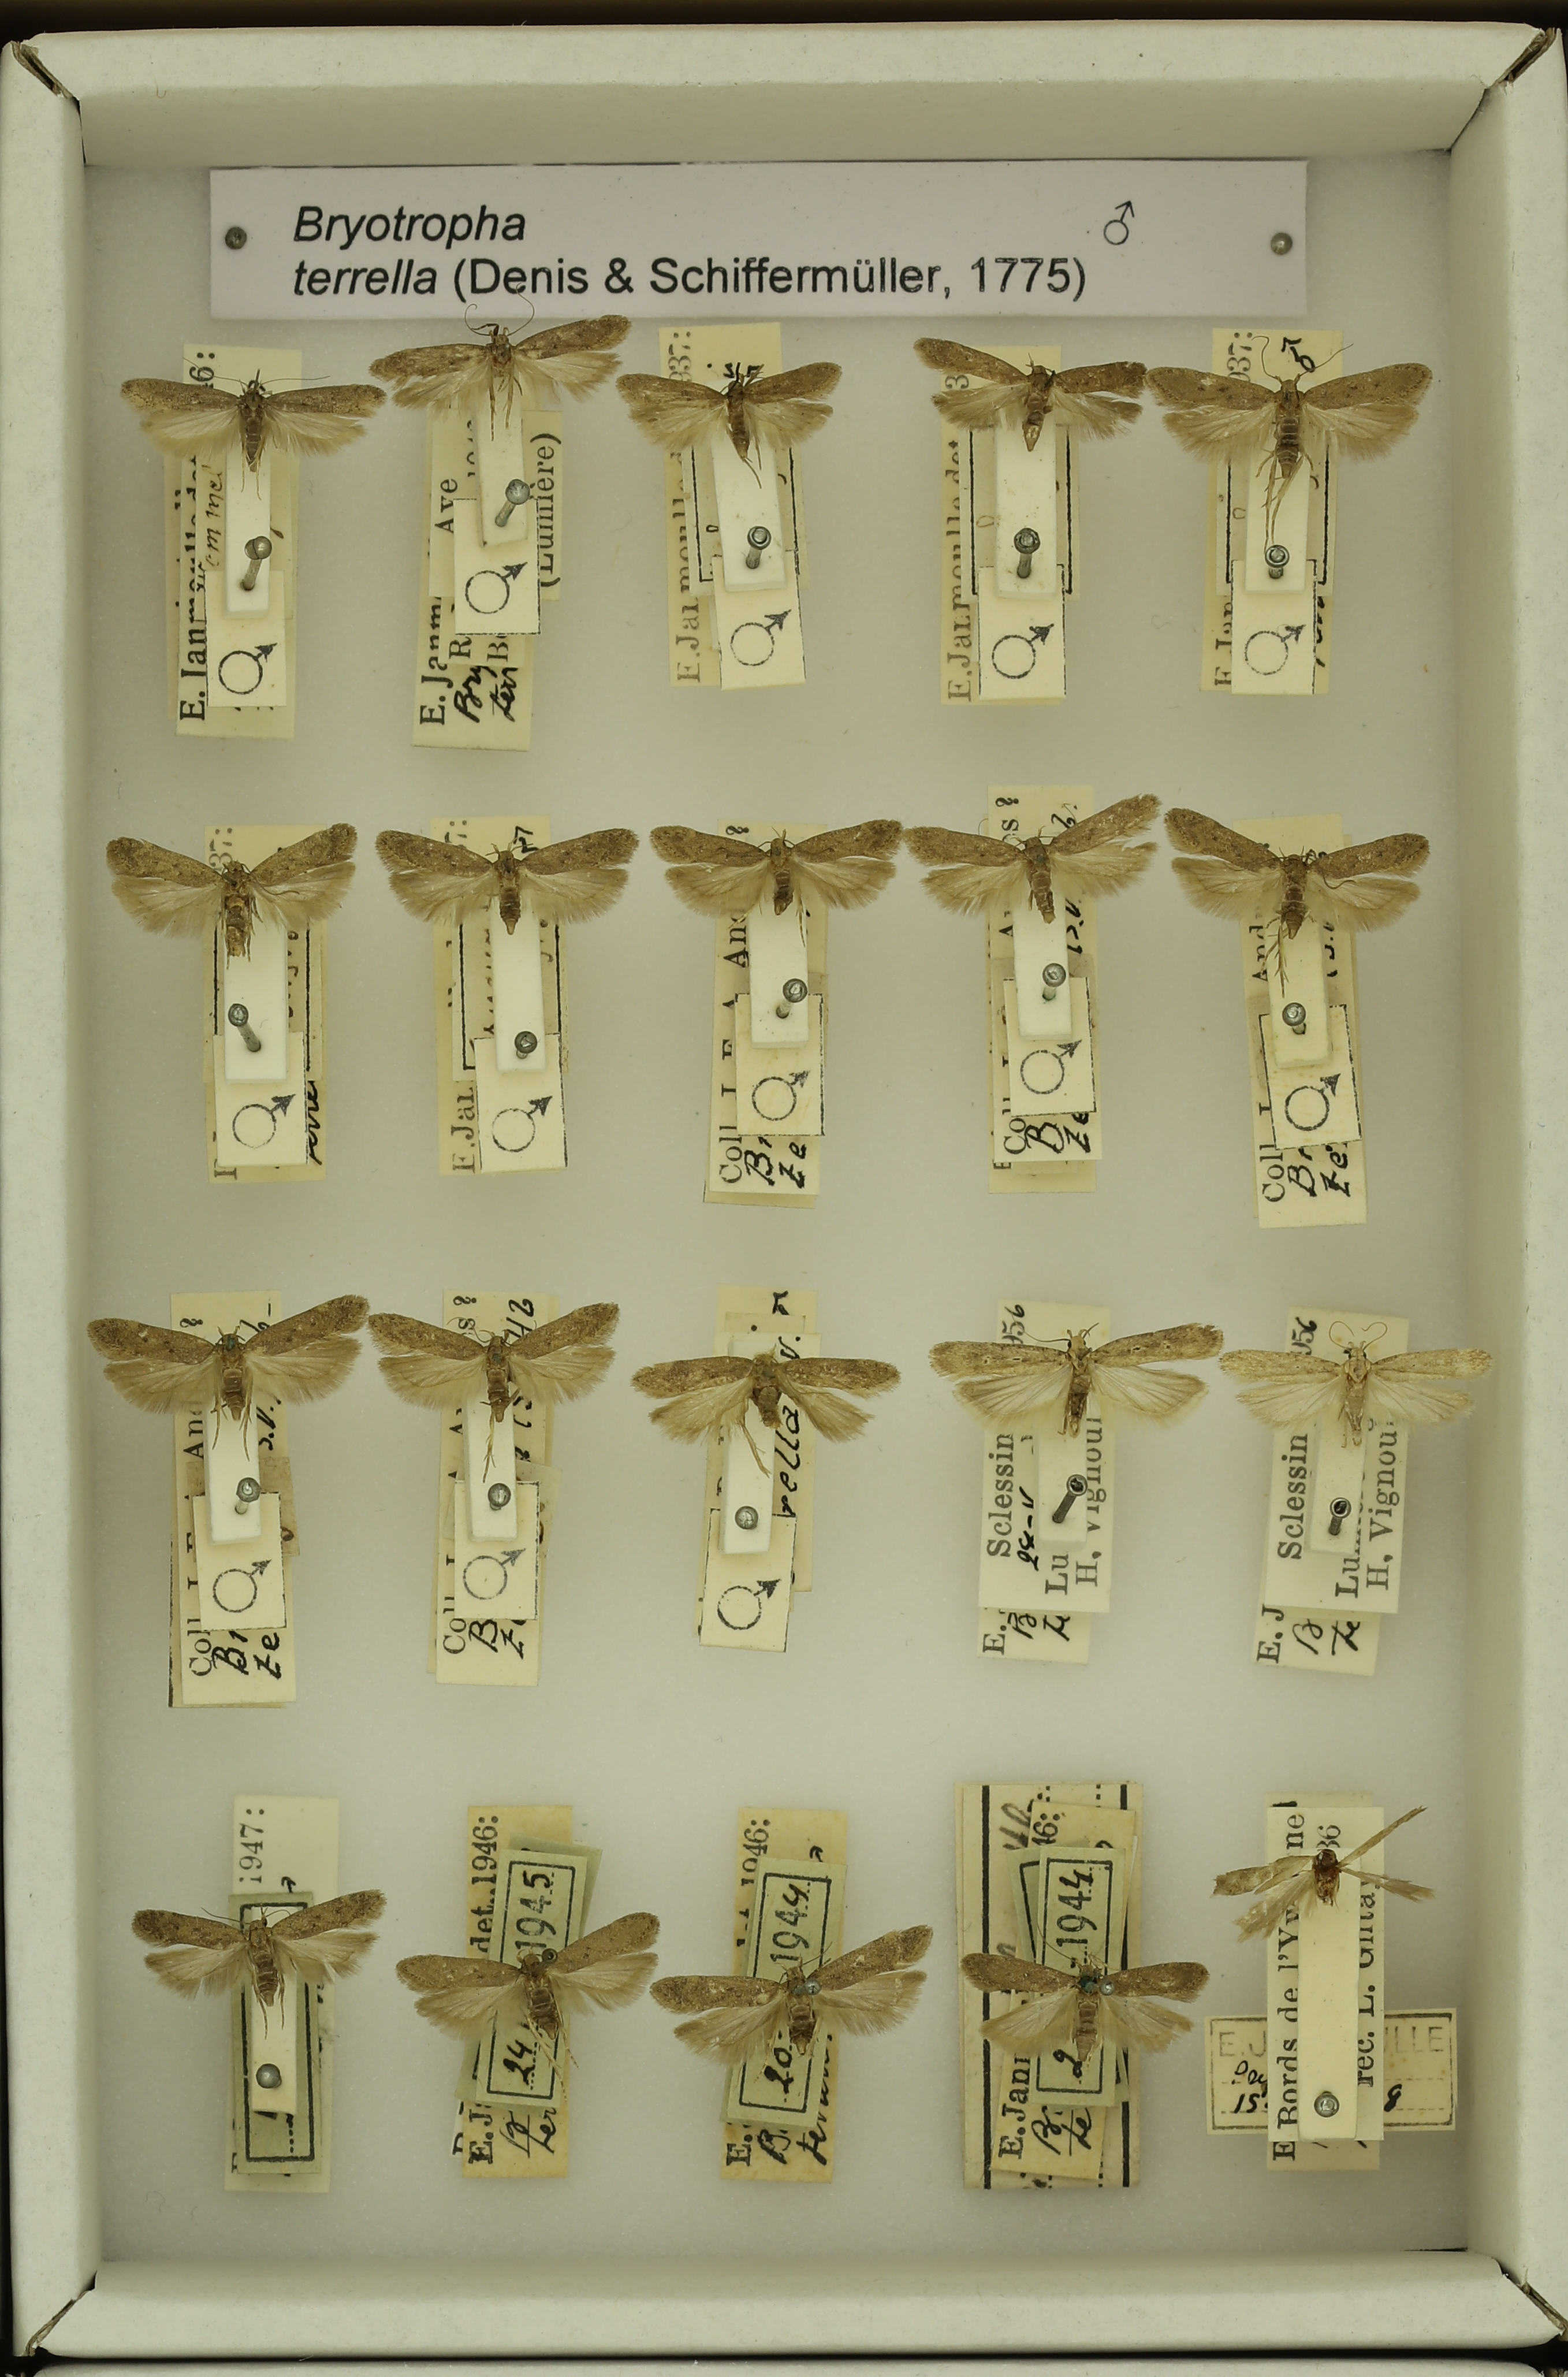insect: (1144, 335, 1448, 535), (69, 1275, 368, 1461), (1164, 798, 1440, 989), (366, 1290, 630, 1483), (1217, 1305, 1511, 1460), (918, 1303, 1226, 1442), (647, 1920, 941, 2062), (622, 1338, 901, 1483), (105, 361, 389, 500), (900, 783, 1163, 931), (112, 1872, 390, 2010), (386, 1904, 662, 2043), (945, 1932, 1209, 2073), (99, 817, 363, 957), (905, 328, 1153, 470), (367, 307, 634, 438), (370, 818, 642, 941), (1209, 1799, 1446, 1939), (610, 351, 841, 489), (646, 810, 901, 925)
